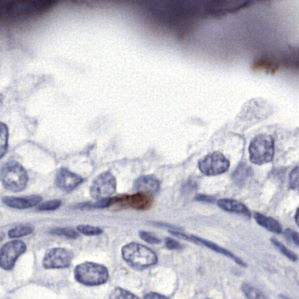Lymphocyte: (122, 189, 155, 211)
